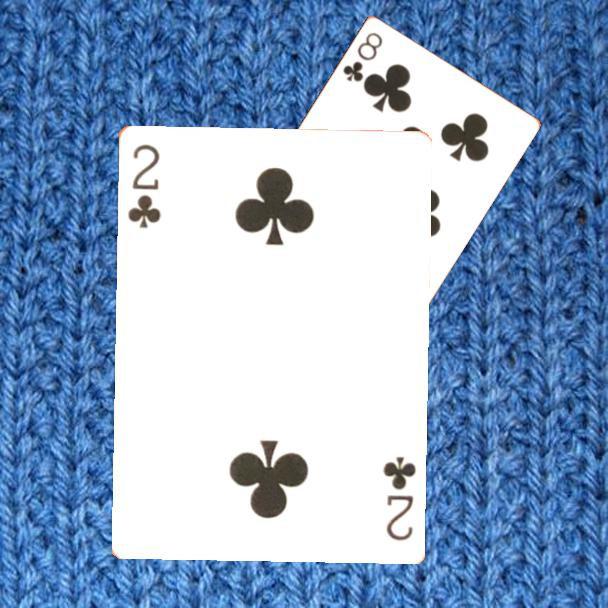c02: (379, 452, 419, 543), (123, 140, 163, 230)
c08: (339, 28, 386, 84)
